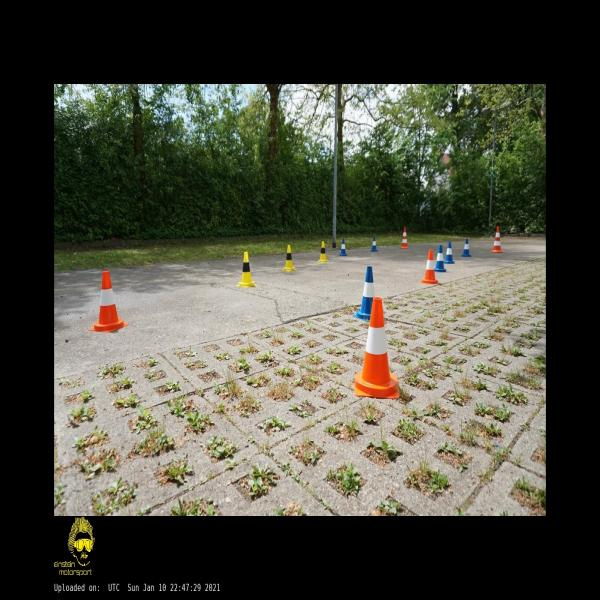blue_cone: (353, 266, 375, 322), (433, 245, 446, 272), (444, 242, 454, 263), (461, 238, 471, 257), (338, 239, 347, 256), (370, 237, 378, 251)
large_orange_cone: (491, 226, 503, 253), (400, 227, 409, 248)
orange_cone: (354, 298, 399, 398), (89, 272, 128, 332), (421, 250, 438, 284)
yellow_cone: (236, 252, 257, 288), (280, 245, 296, 271), (317, 241, 329, 262)
